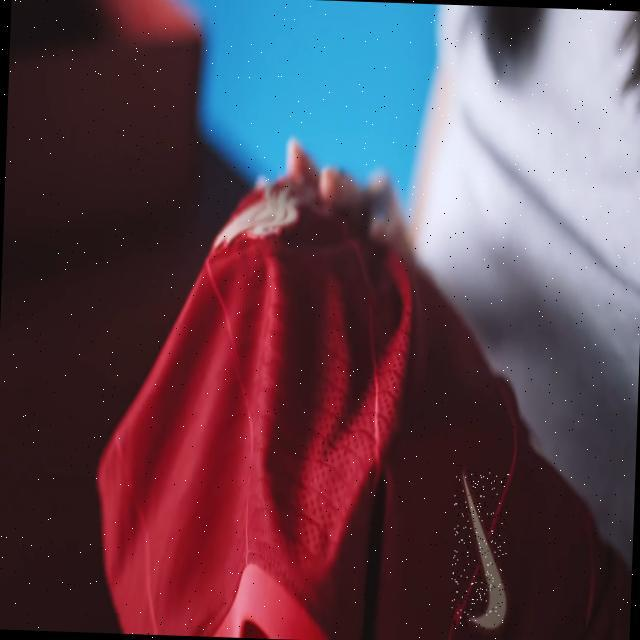Nike: (450, 470, 509, 629)
